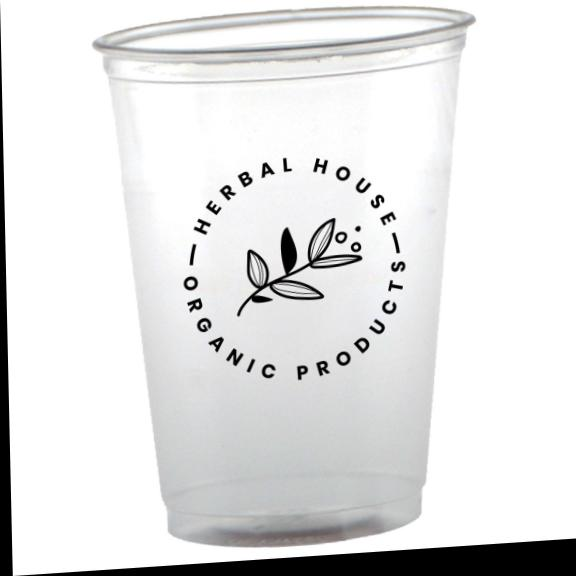Plastik: (95, 8, 473, 545)
